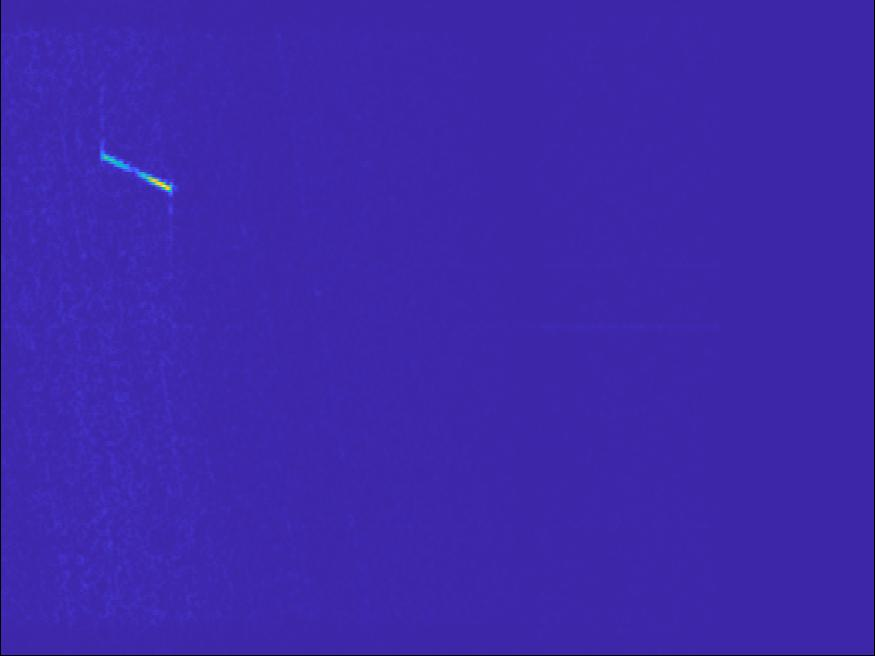Interference: (387, 285, 603, 369), (441, 454, 584, 580), (389, 381, 498, 429), (392, 88, 503, 132)
